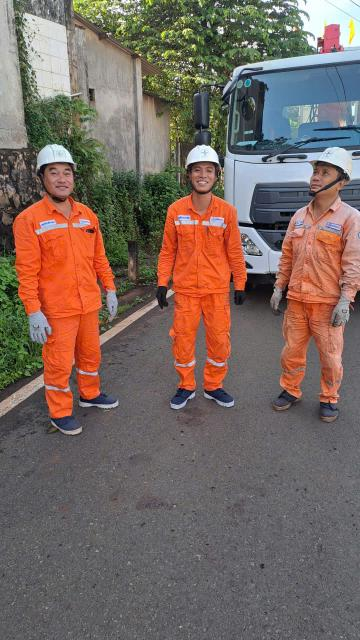gloves: (23, 300, 57, 346), (96, 282, 132, 322), (326, 291, 351, 328), (264, 281, 283, 321), (152, 283, 172, 310), (230, 282, 249, 308)
helmet: (304, 143, 360, 183), (176, 145, 231, 179), (28, 144, 77, 173)
shoes: (71, 382, 122, 412), (51, 406, 89, 438), (311, 390, 345, 425), (159, 380, 194, 409), (269, 386, 304, 415), (205, 380, 236, 412)
